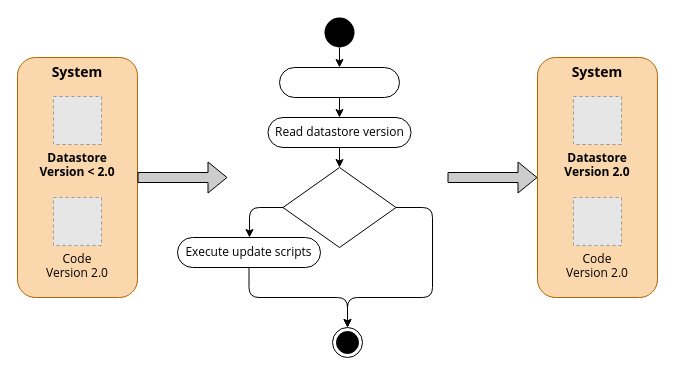
This 675x375 diagram has some shape labels left out. Grey dashed boxes stand in for pictures. The shapes that lost their labels are listed below. From the top down, each one's centre as x and y in pixels, then its label:
(x=339, y=82): Startup datastore
(x=339, y=207): Is update available for version?
